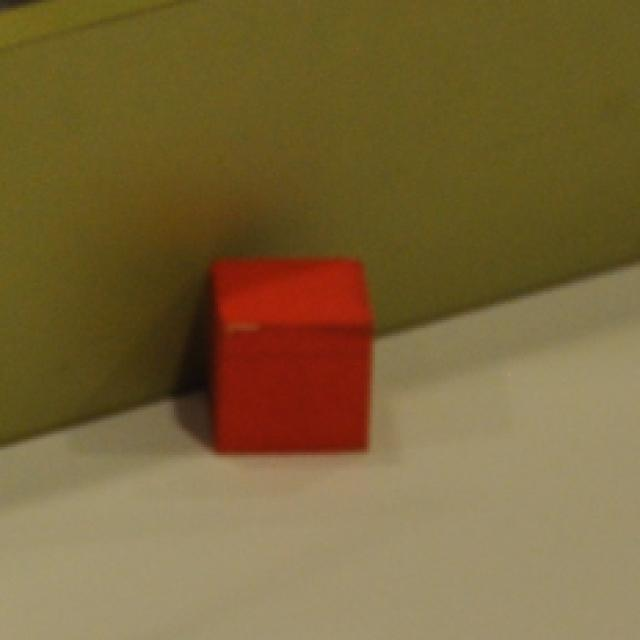red cube: (210, 267, 367, 455)
